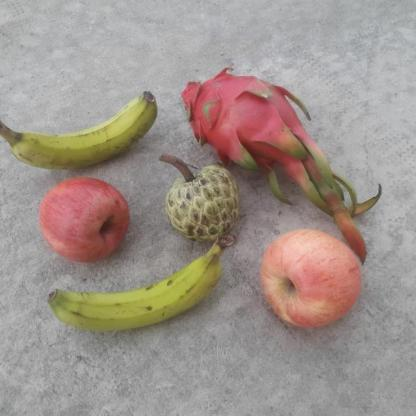annona: (167, 166, 244, 247)
apple: (261, 227, 365, 329), (38, 174, 133, 265)
banana: (47, 249, 224, 330), (6, 86, 158, 168)
pitaya: (183, 70, 306, 169)
